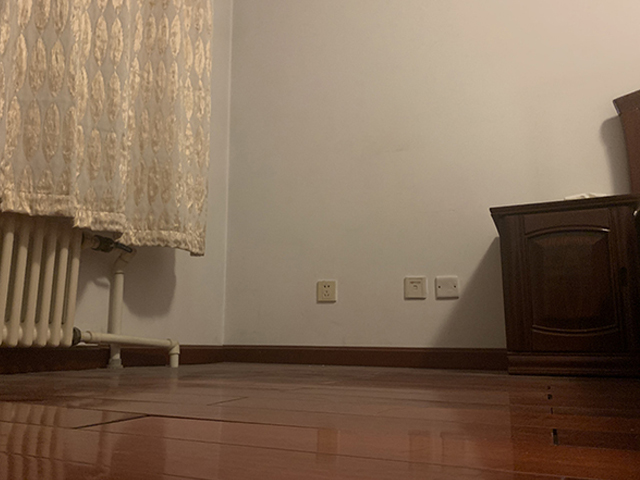cabinet: (487, 192, 640, 379)
curtain: (2, 1, 212, 258)
